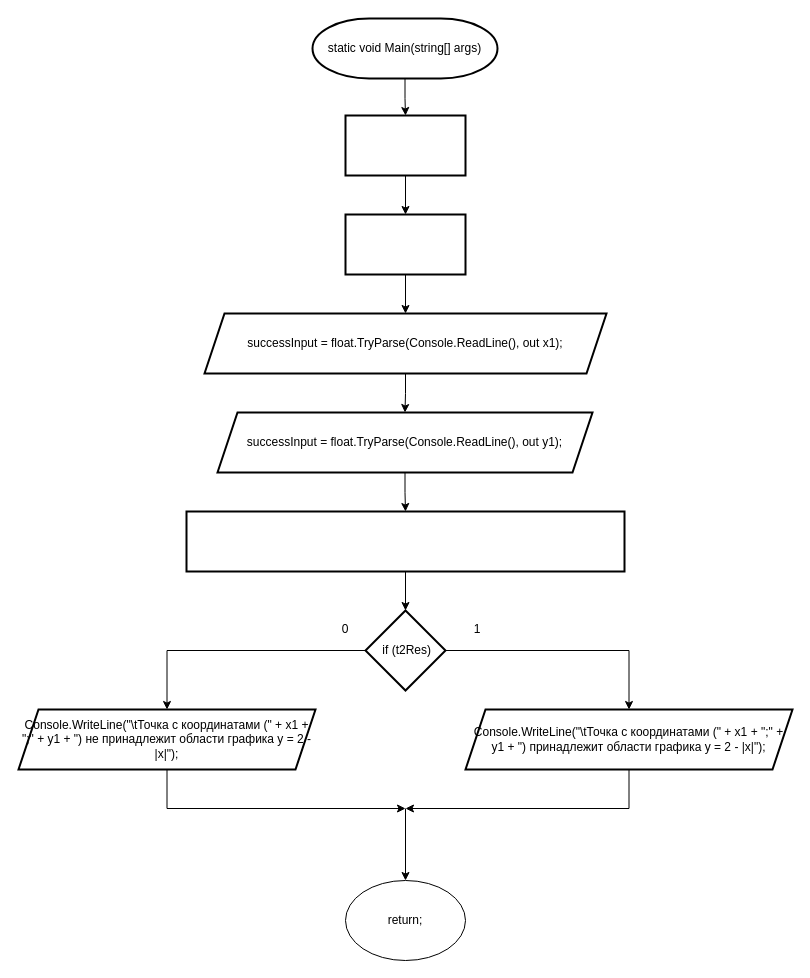
Some shapes in this 810 by 978 pixel diagram are drawn without their labels. Each missing label, with the box of its shape:
bool successInput;: (344, 114, 466, 176)
bool t2Res = false; float x1, y1;: (344, 213, 466, 275)
t2Res = (x1 >= -2) && (x1 <= 2) && (y1 >= 0) && (y1 <= (2 - Math.Abs(x1)));: (185, 510, 625, 572)
